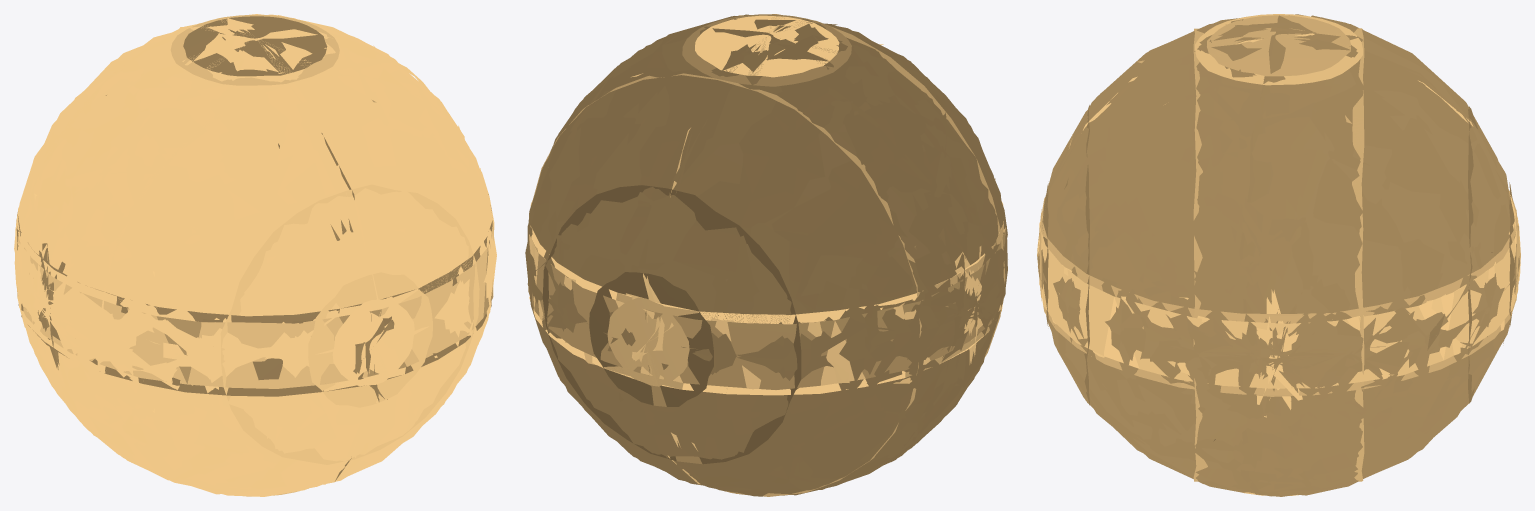
The model's file is sys-id-mechanical.glb.
3 views of the same model, side by side, from view 1: azimuth 30°, elevation 25°; view 2: azimuth 150°, elevation 25°; view 3: azimuth 270°, elevation 25° (orthographic).
Visible parts, largest first — view 1: TS-id-mechanical-1635, TS-id-mechanical-1545, TS-id-mechanical-1659, TS-id-mechanical-1636, TS-id-mechanical-1548, TS-id-mechanical-1650, TS-id-mechanical-1546, TS-id-mechanical-1645; view 2: TS-id-mechanical-1635, TS-id-mechanical-1545, TS-id-mechanical-1659, TS-id-mechanical-1636, TS-id-mechanical-1548, TS-id-mechanical-1650, TS-id-mechanical-1546, TS-id-mechanical-1645; view 3: TS-id-mechanical-1635, TS-id-mechanical-1545, TS-id-mechanical-1548, TS-id-mechanical-1636, TS-id-mechanical-1650, TS-id-mechanical-1659, TS-id-mechanical-1645, TS-id-mechanical-1546.
Boxes of the visible parts, <box> form: TS-id-mechanical-1635: <box>14,14,496,494</box>; TS-id-mechanical-1545: <box>16,14,493,496</box>; TS-id-mechanical-1659: <box>220,184,479,464</box>; TS-id-mechanical-1636: <box>16,14,492,496</box>; TS-id-mechanical-1548: <box>17,16,492,396</box>; TS-id-mechanical-1650: <box>16,29,489,481</box>; TS-id-mechanical-1546: <box>156,248,493,383</box>; TS-id-mechanical-1645: <box>21,25,429,484</box>; TS-id-mechanical-1635: <box>525,14,1007,496</box>; TS-id-mechanical-1545: <box>528,14,1005,495</box>; TS-id-mechanical-1659: <box>542,185,801,464</box>; TS-id-mechanical-1636: <box>531,14,1005,496</box>; TS-id-mechanical-1548: <box>529,15,1003,395</box>; TS-id-mechanical-1650: <box>532,25,1005,484</box>; TS-id-mechanical-1546: <box>529,234,865,385</box>; TS-id-mechanical-1645: <box>563,25,1001,483</box>; TS-id-mechanical-1635: <box>1037,14,1520,496</box>; TS-id-mechanical-1545: <box>1040,14,1517,495</box>; TS-id-mechanical-1548: <box>1041,15,1516,396</box>; TS-id-mechanical-1636: <box>1037,28,1520,481</box>; TS-id-mechanical-1650: <box>1037,33,1520,417</box>; TS-id-mechanical-1659: <box>1042,105,1515,405</box>; TS-id-mechanical-1645: <box>1038,36,1518,366</box>; TS-id-mechanical-1546: <box>1039,218,1518,368</box>.
Size of the model in its own units: 2 by 2 by 2.
